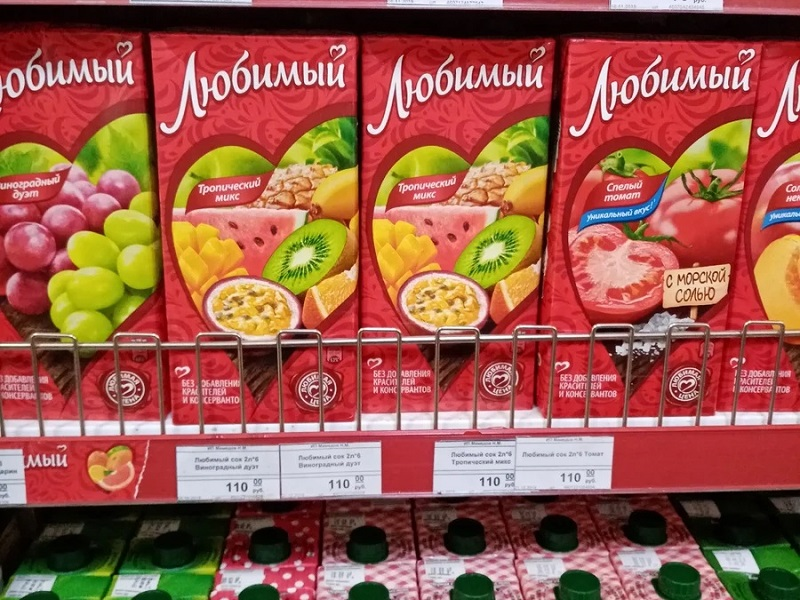juice: (136, 22, 370, 438), (541, 30, 769, 440), (356, 25, 553, 419), (1, 21, 180, 434)
